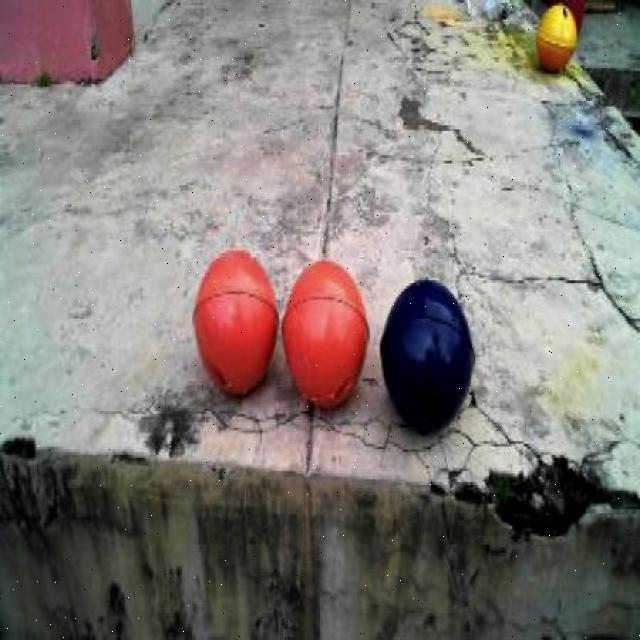buoy: (374, 264, 482, 447), (277, 246, 372, 415), (187, 237, 281, 403), (534, 0, 580, 84)
